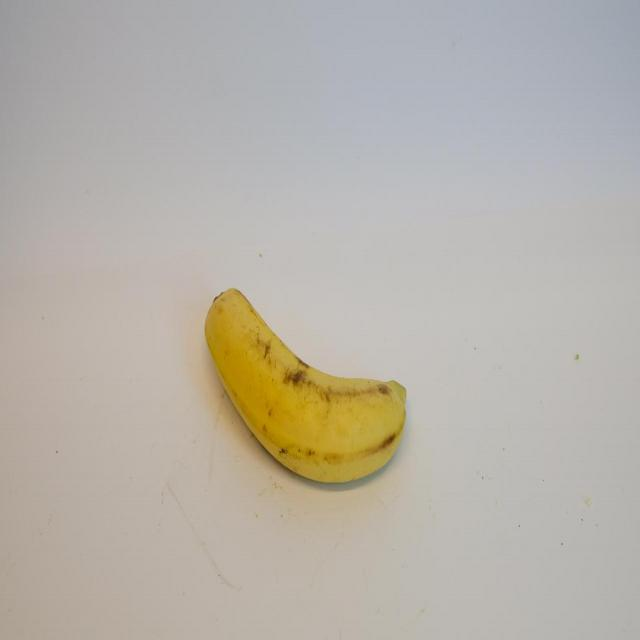banana: (204, 286, 408, 486)
